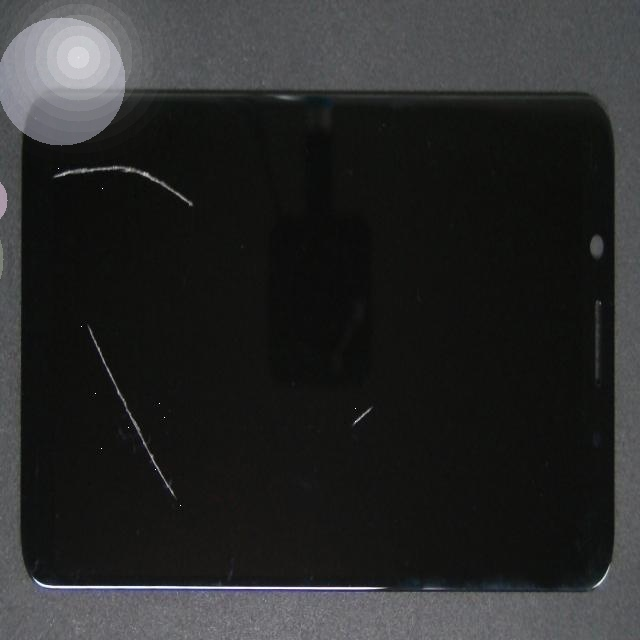scratch: (173, 219, 522, 640), (0, 86, 131, 309), (35, 169, 104, 509)
